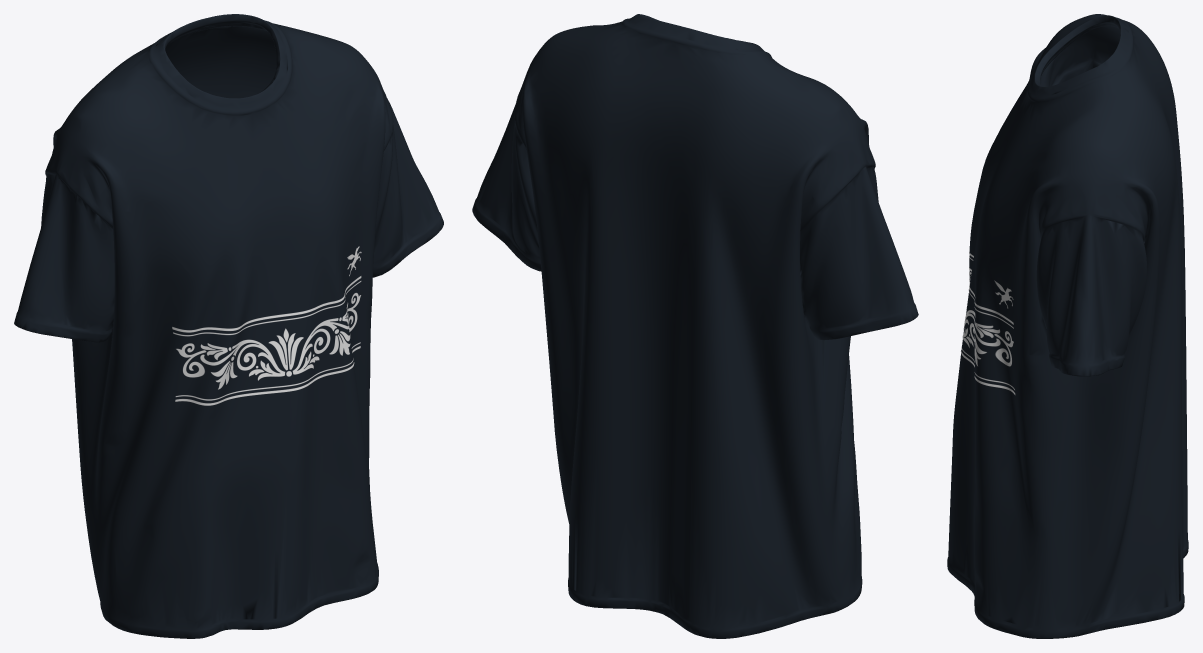
File: 09-ivory-ornament-tee.glb
3 renders of one model, left to right at view 1: azimuth 30°, elevation 25°; view 2: azimuth 150°, elevation 25°; view 3: azimuth 270°, elevation 25°, orthographic. The views are drawn at different scales.
Parts seen in each view (by area): view 1: node_0007, IPU / conforming front print; view 2: node_0007; view 3: node_0007, IPU / conforming front print.
Boxes of the visible parts, x1,y1,x2,y2 form: node_0007: (14, 14, 443, 638); IPU / conforming front print: (172, 246, 361, 405); node_0007: (472, 14, 918, 638); node_0007: (947, 14, 1188, 638); IPU / conforming front print: (961, 251, 1015, 395).
Size of the model in its own units: 0.3696 by 0.4564 by 0.1826.
Materials: 2 (1 with a texture image).
